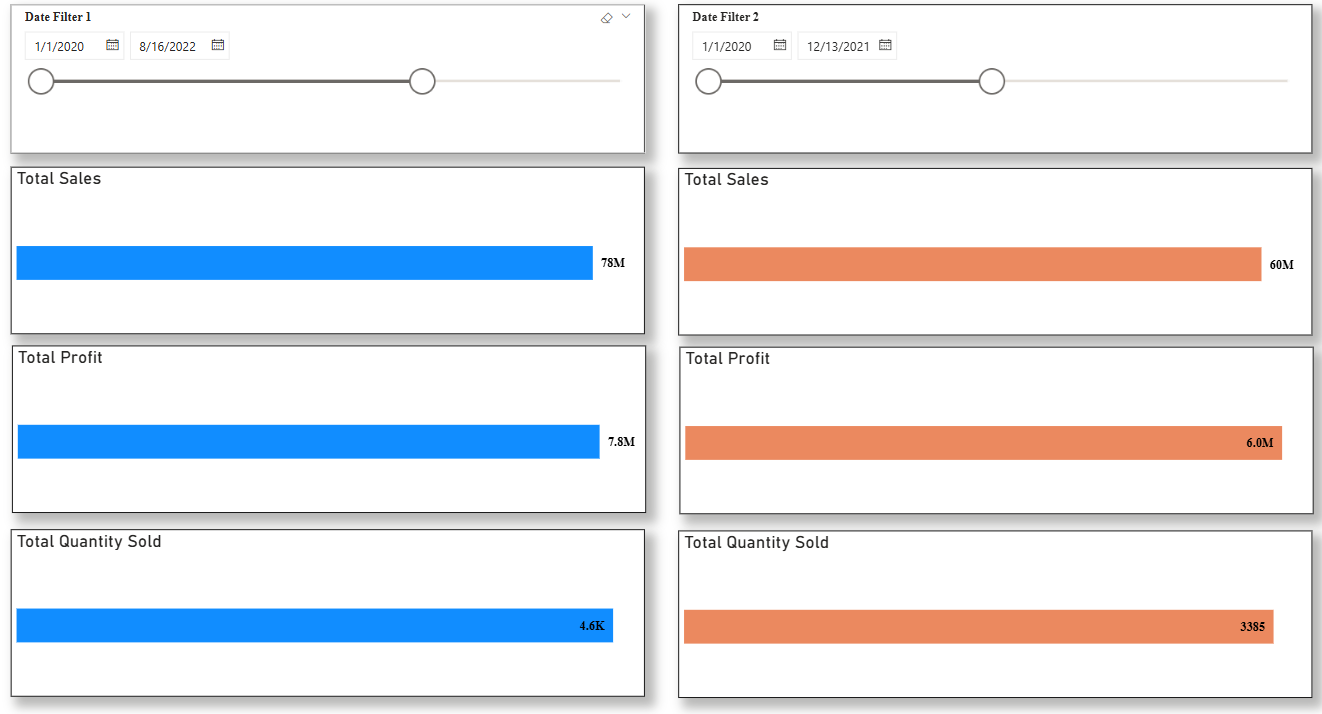

This screenshot's page, from the dashboard's own definition file:
{"tool":"powerbi","page":{"name":"Req 4","canvas":[1280,720],"ordinal":3},"visuals":[{"type":"slicer","fields":{"Values":["Fact Table.Date"]},"box":[13.7,11,612.3,143.8],"z":0},{"type":"slicer","fields":{"Values":["Fact Table.Date"]},"box":[657.5,11,612.3,143.8],"z":1000},{"type":"barChart","fields":{"Y":["Sum(Fact Table.Net Sales  )"]},"box":[13.7,167.1,612.3,161.6],"z":2000},{"type":"barChart","fields":{"Y":["Sum(Fact Table.Profit)"]},"box":[15.1,339.7,612.3,161.6],"z":3000},{"type":"barChart","fields":{"Y":["Sum(Fact Table.Units Sold)"]},"box":[13.7,517.8,612.3,161.6],"z":4000},{"type":"barChart","fields":{"Y":["Sum(Fact Table.Net Sales  )"]},"box":[657.1,168.4,612.3,161.6],"z":5000},{"type":"barChart","fields":{"Y":["Sum(Fact Table.Profit)"]},"box":[658.5,341,612.3,161.6],"z":6000},{"type":"barChart","fields":{"Y":["Sum(Fact Table.Units Sold)"]},"box":[657.1,519,612.3,161.6],"z":7000}]}

Visuals, with their boxes on the page's 1280x720 design canvas (x1, y1, x2, y2). These are canvas units, not pixel positions in the 1322x714 screenshot, which may show the page scaled, cropped or inside an application window:
slicer - Fact Table.Date: [14, 11, 626, 155]
slicer - Fact Table.Date: [658, 11, 1270, 155]
barChart - Sum(Fact Table.Net Sales  ): [14, 167, 626, 329]
barChart - Sum(Fact Table.Profit): [15, 340, 627, 501]
barChart - Sum(Fact Table.Units Sold): [14, 518, 626, 679]
barChart - Sum(Fact Table.Net Sales  ): [657, 168, 1269, 330]
barChart - Sum(Fact Table.Profit): [658, 341, 1271, 503]
barChart - Sum(Fact Table.Units Sold): [657, 519, 1269, 681]
